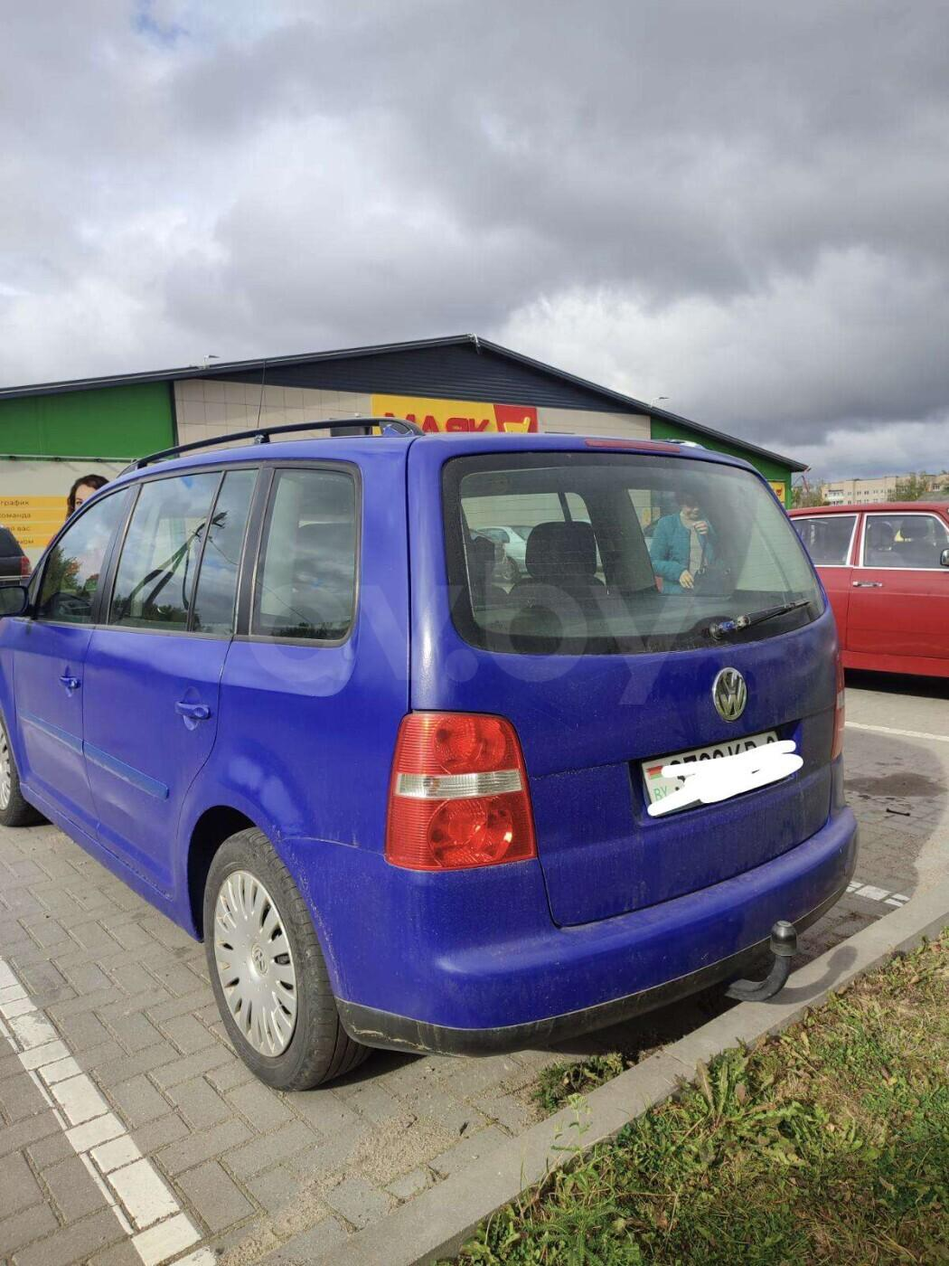Touran_2003-2006: (0, 427, 860, 1094)
